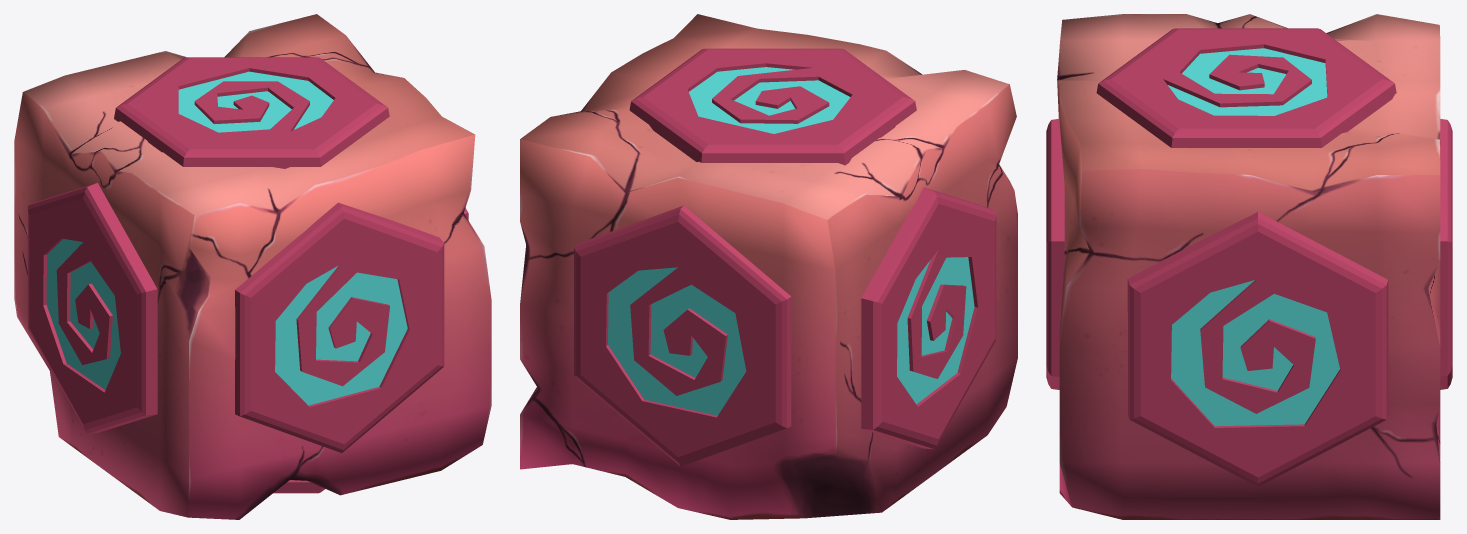
The model's file is dice.fbx.
3 renders of one model, left to right at view 1: azimuth 30°, elevation 25°; view 2: azimuth 150°, elevation 25°; view 3: azimuth 270°, elevation 25°, orthographic. The views are drawn at different scales.
Parts seen in each view (by area): view 1: Cube.028; view 2: Cube.028; view 3: Cube.028.
Part boxes in pixels (x1=…): Cube.028: x1=14, y1=14, x2=491, y2=519; Cube.028: x1=520, y1=14, x2=1017, y2=519; Cube.028: x1=1046, y1=14, x2=1452, y2=519.
Size of the model in its own units: 145 by 144 by 142.
